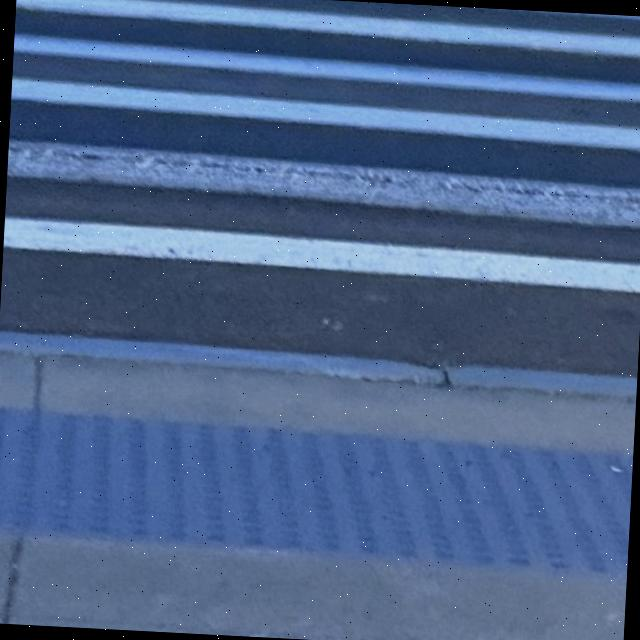curb: (0, 331, 636, 397)
